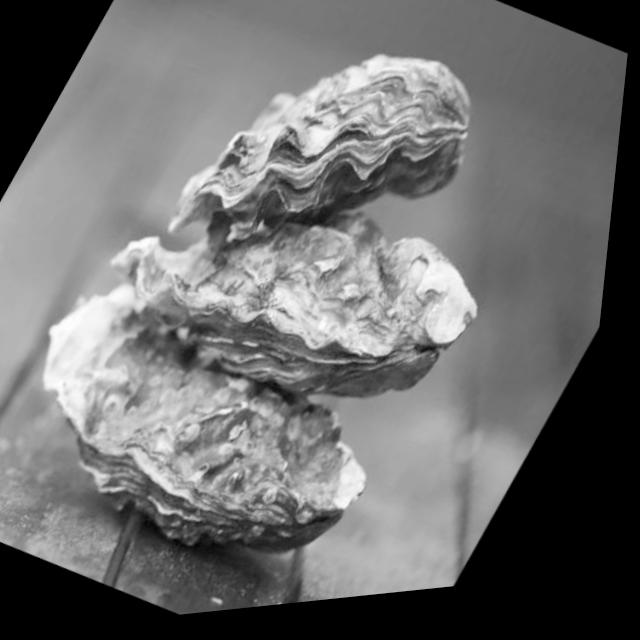Oyster-Closed: (64, 96, 528, 483), (0, 230, 434, 632), (144, 0, 520, 339)
